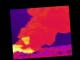Foc: (10, 30, 42, 56)
